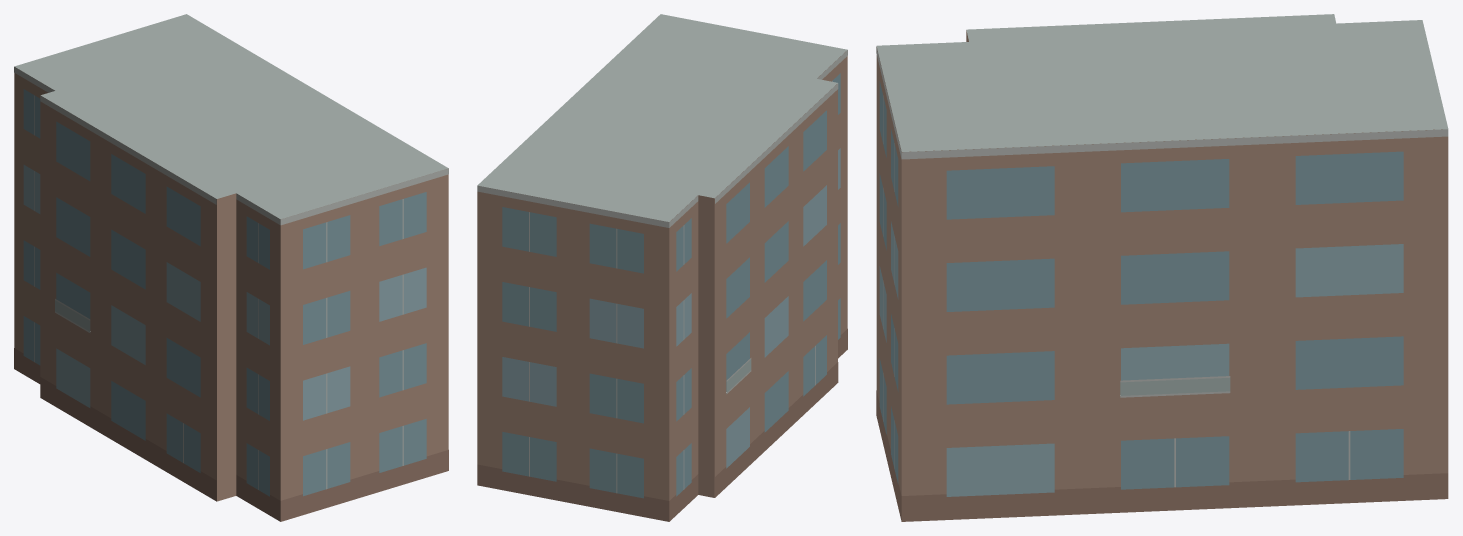
Rendered from survey-upis-32699595.glb.
3 views of the same model, side by side, from view 1: azimuth 30°, elevation 25°; view 2: azimuth 150°, elevation 25°; view 3: azimuth 270°, elevation 25° (orthographic). The views are drawn at different scales.
Parts seen in each view (by area): view 1: survey-upis-32699595.tmp; view 2: survey-upis-32699595.tmp; view 3: survey-upis-32699595.tmp.
Boxes of the visible parts, bbox=[...] form: survey-upis-32699595.tmp: bbox=[14, 14, 448, 521]; survey-upis-32699595.tmp: bbox=[477, 14, 847, 521]; survey-upis-32699595.tmp: bbox=[876, 14, 1448, 521].
Size of the model in its own units: 9.78 by 12.2 by 17.11.
